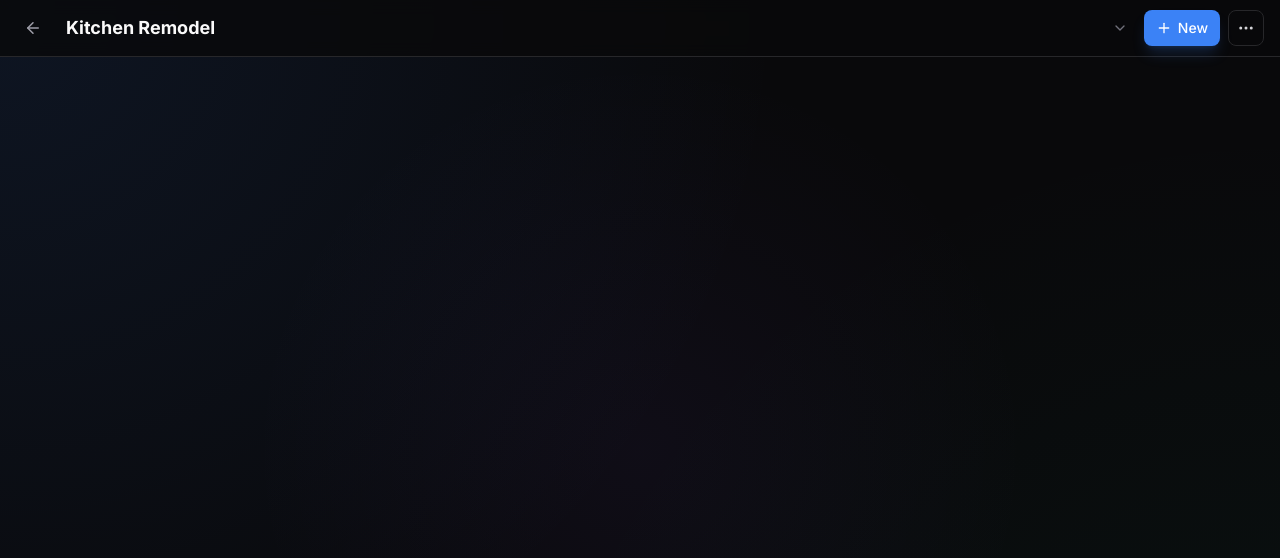
JobHeaderBar › keeps project status available inside the expanded job details
Click the button with aria-label "Show job details". click: (141, 28)
box: [58,8,1136,48]
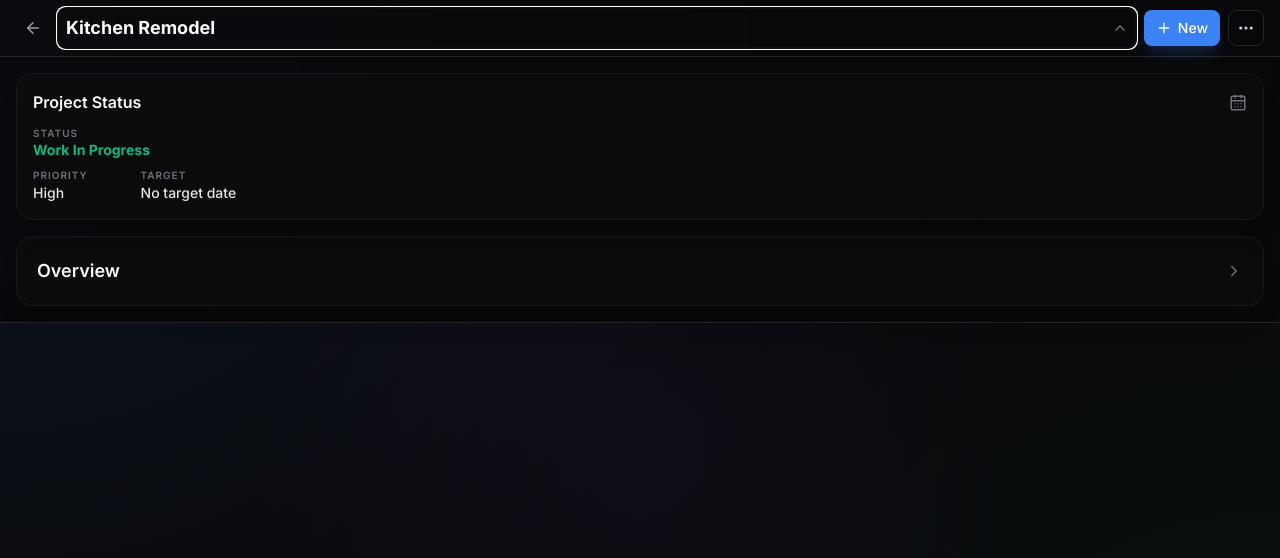
Result: the heading "Project Status" is shown at [33,92,141,112]
Result: the text "Work In Progress" is shown at [33,141,150,158]
